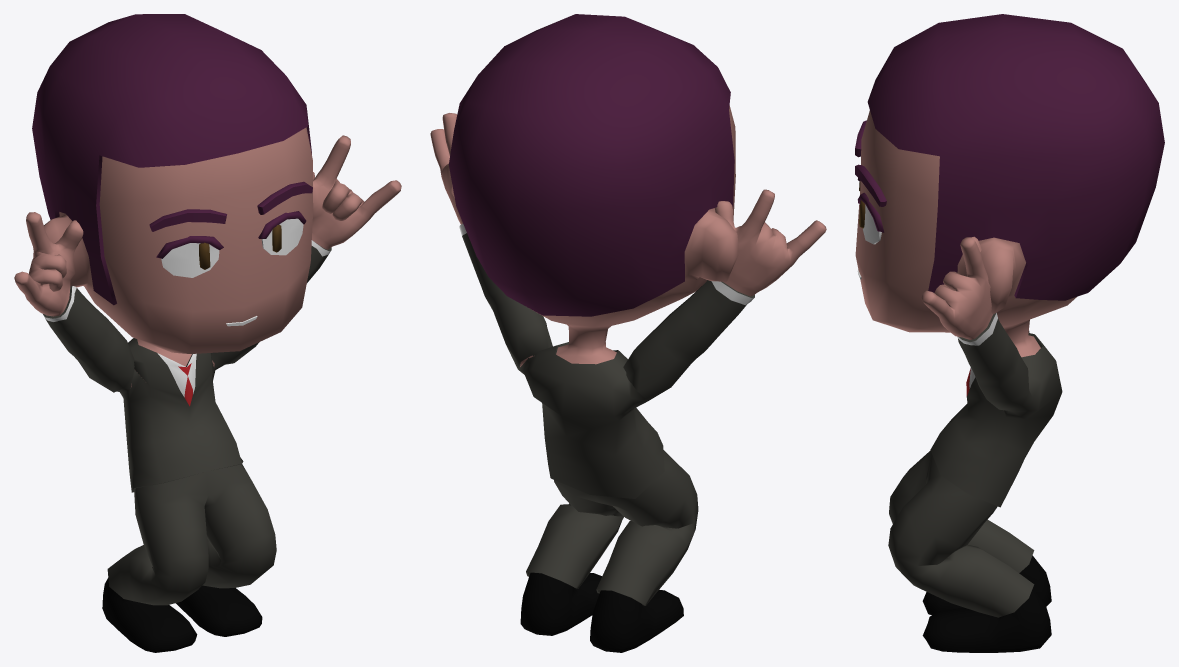
The model's file is Personajes_juzgado.fbx.
The picture shows the model from 3 angles, left to right: view 1: azimuth 30°, elevation 25°; view 2: azimuth 150°, elevation 25°; view 3: azimuth 270°, elevation 25°; orthographic projection. The views are drawn at different scales.
Parts seen in each view (by area): view 1: body.009, hair1.001, shirt3.009, pants1.009, socks.009, eyesbase2.005, eyebrows1.009; view 2: hair1.001, shirt3.009, pants1.009, body.009, socks.009; view 3: hair1.001, body.009, pants1.009, shirt3.009, socks.009, eyebrows1.009, eyesbase2.005.
Part boxes in pixels (<box>): body.009: <box>14,127,401,387</box>; hair1.001: <box>32,14,311,305</box>; shirt3.009: <box>43,240,331,492</box>; pants1.009: <box>107,464,276,605</box>; socks.009: <box>102,578,262,652</box>; eyesbase2.005: <box>156,211,306,277</box>; eyebrows1.009: <box>149,181,312,231</box>; hair1.001: <box>448,14,734,316</box>; shirt3.009: <box>459,223,754,498</box>; pants1.009: <box>526,450,698,605</box>; body.009: <box>430,105,826,366</box>; socks.009: <box>520,572,683,652</box>; hair1.001: <box>867,14,1164,300</box>; body.009: <box>855,110,1076,357</box>; pants1.009: <box>888,450,1034,617</box>; shirt3.009: <box>930,313,1062,507</box>; socks.009: <box>922,555,1051,652</box>; eyebrows1.009: <box>855,120,886,206</box>; eyesbase2.005: <box>857,178,884,244</box>.
Bounding box in the file's own units: 105 × 152 × 71.14.
